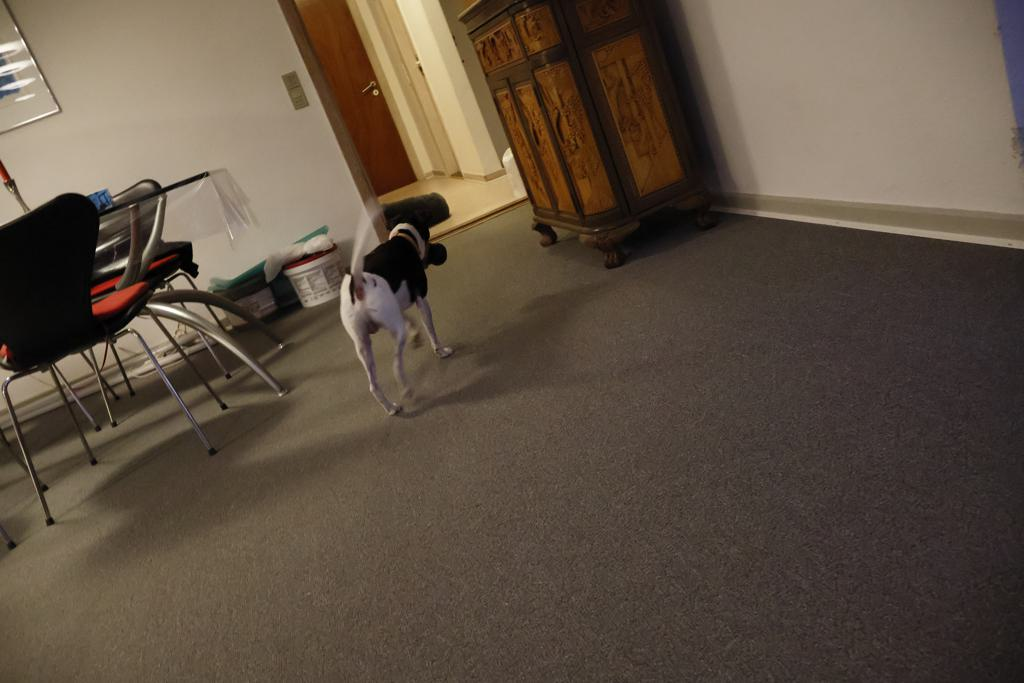Dog: (322, 188, 476, 427)
